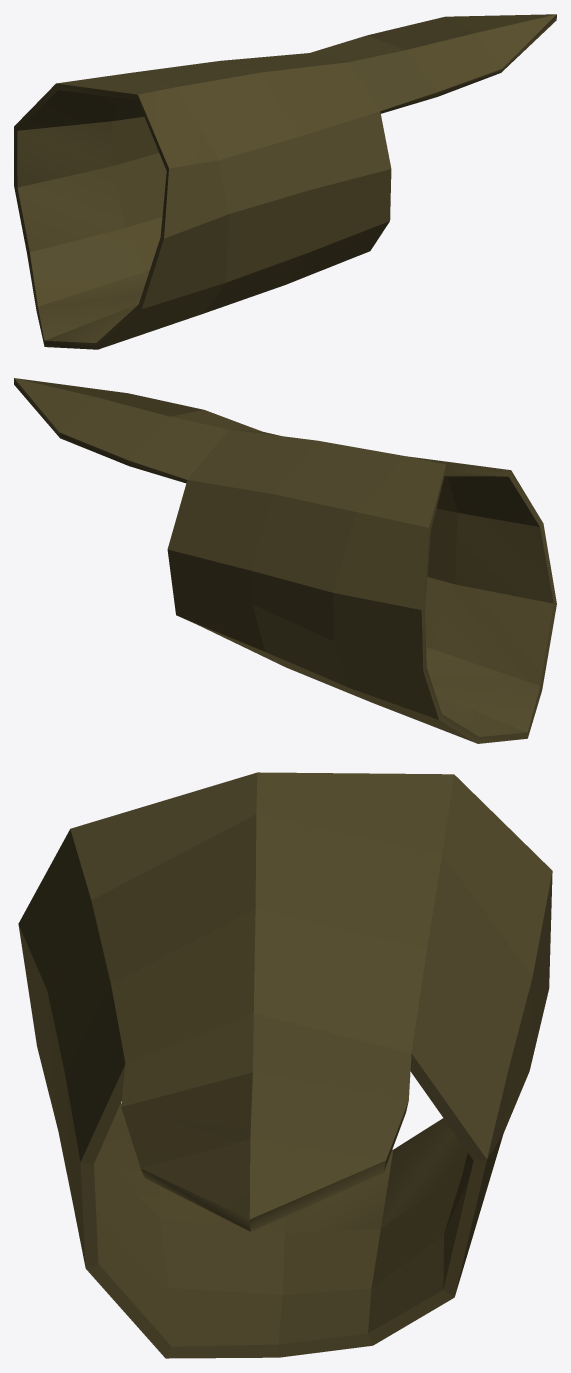
Rendered from Avambraccio_sx_5.fbx.
3 views of the same model, one above another, from view 1: azimuth 30°, elevation 25°; view 2: azimuth 150°, elevation 25°; view 3: azimuth 270°, elevation 25° (orthographic). The views are drawn at different scales.
Visible parts, largest first — view 1: polySurface1.027; view 2: polySurface1.027; view 3: polySurface1.027.
Part boxes in pixels (left/top/right/bottom): polySurface1.027: left=14, top=14, right=556, bottom=349; polySurface1.027: left=14, top=378, right=556, bottom=743; polySurface1.027: left=18, top=772, right=552, bottom=1358.
Bounding box in the file's own units: 42.53 × 19.14 × 19.56.
